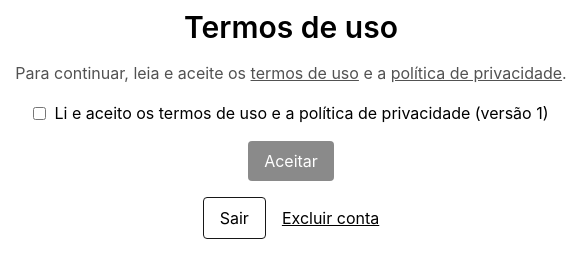
Test case: AceiteDosTermos › a) Aceitar fica desabilitado sem a caixa e habilitado com ela
expect the button "Aceitar" is disabled: met, box [248, 141, 334, 181]
Click the checkbox.
click(40, 113)  # box [34, 106, 46, 120]
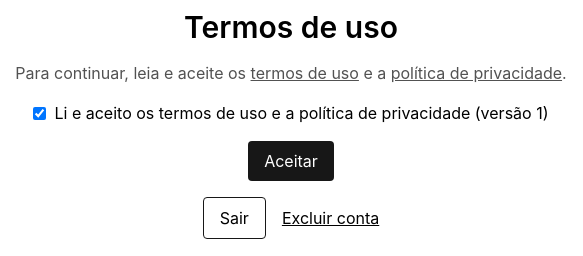
expect the button "Aceitar" is enabled: met, box [248, 141, 334, 181]
Click the checkbox.
click(40, 113)  # box [34, 106, 46, 120]
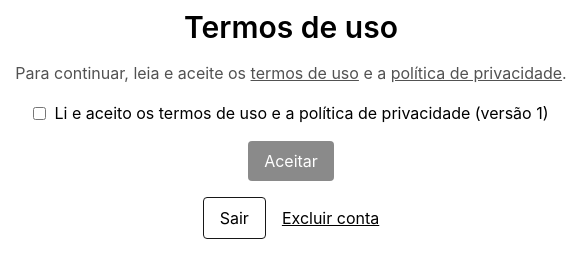
expect the button "Aceitar" is disabled: met, box [248, 141, 334, 181]
